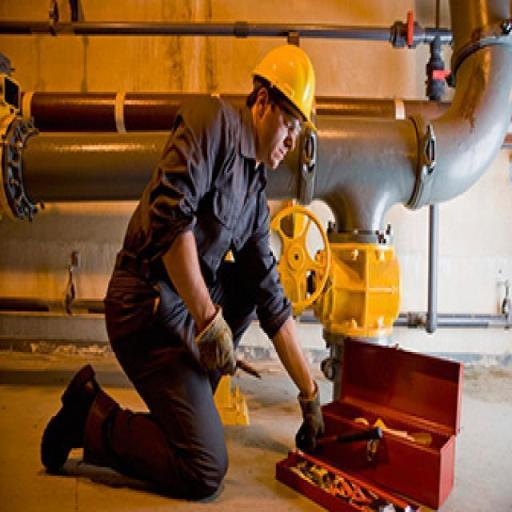Person: (43, 7, 313, 508)
boots: (33, 356, 114, 475)
gloves: (187, 300, 248, 389), (289, 376, 329, 460)
helmet: (246, 28, 327, 142)
none: (127, 95, 262, 398)
